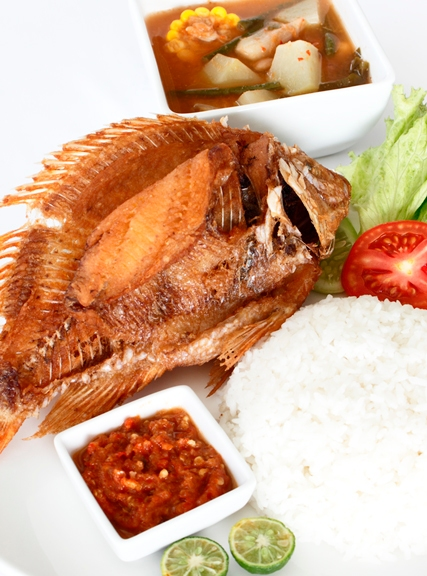buah_sayur_lainnya: (163, 2, 319, 91), (380, 132, 426, 195), (161, 538, 219, 576), (240, 525, 285, 564)
buah_sayur_vitA: (96, 440, 200, 504), (369, 233, 426, 288)
daging: (54, 182, 269, 343)
makanan_berpati: (287, 352, 414, 501)
